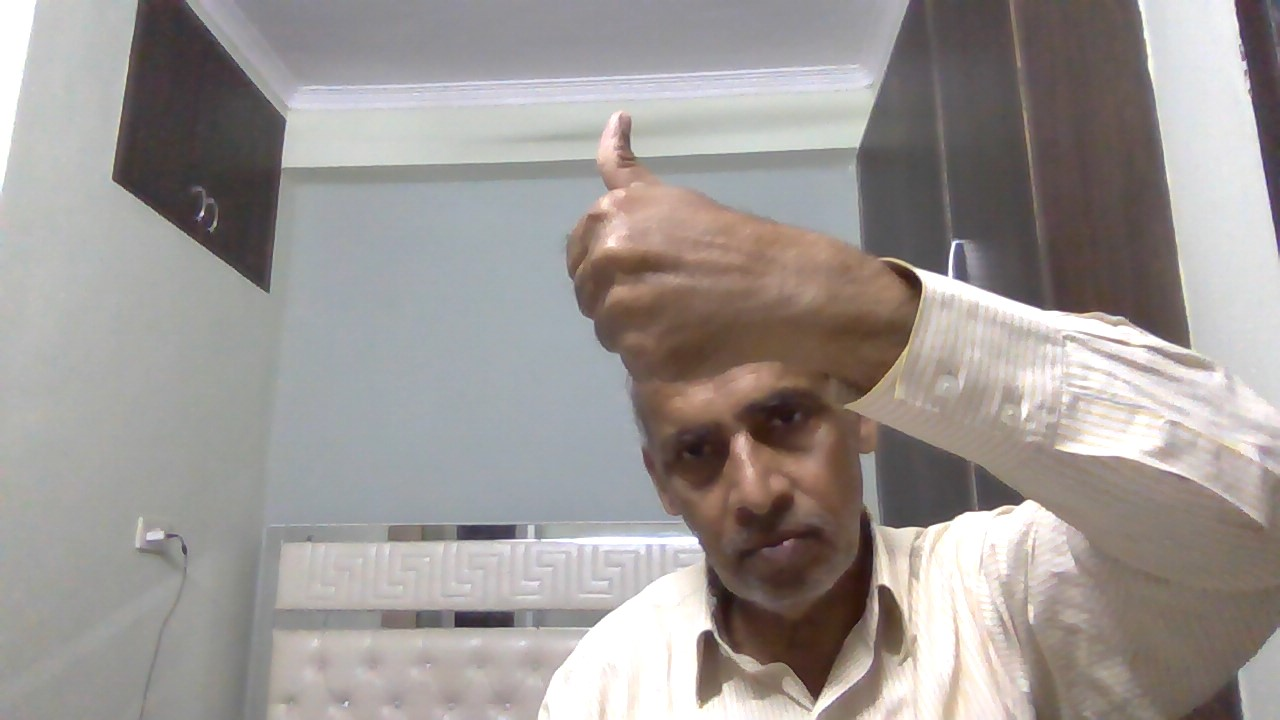Save: (552, 100, 832, 396)
